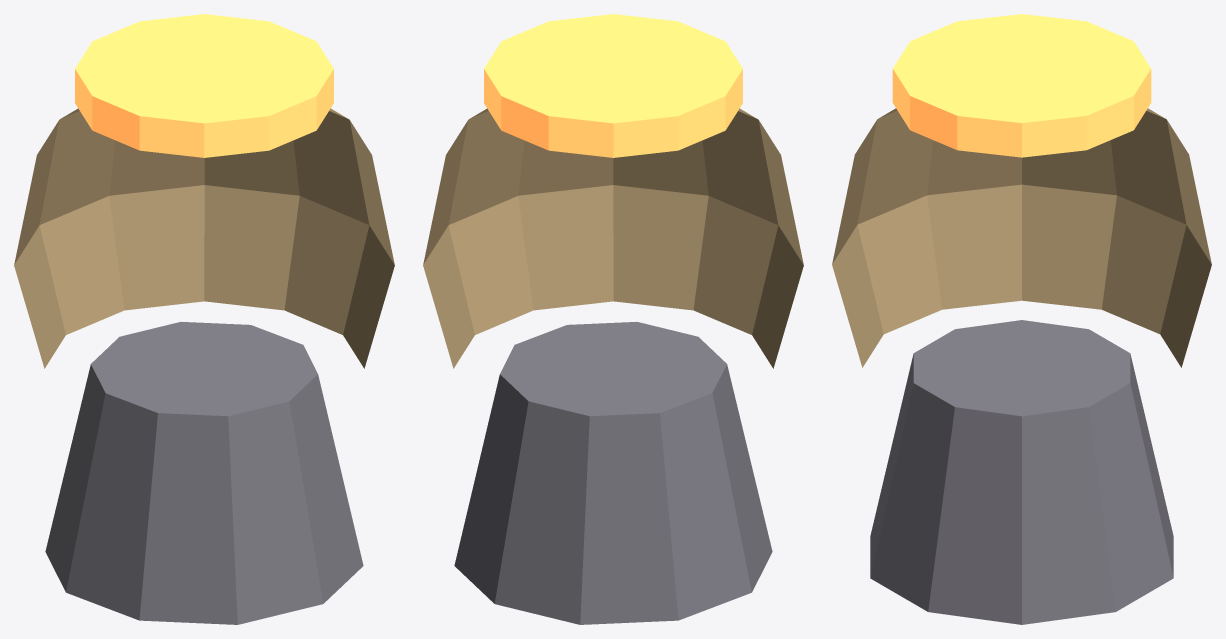
Rendered from mythic-underworld-and-olympus-ember-brazier-c636d069__21370.glb.
The picture shows the model from 3 angles, left to right: view 1: azimuth 30°, elevation 25°; view 2: azimuth 150°, elevation 25°; view 3: azimuth 270°, elevation 25°; orthographic projection.
Parts seen in each view (by area): view 1: ember-brazier; view 2: ember-brazier; view 3: ember-brazier.
Part boxes in pixels (left/top/right/bottom): ember-brazier: left=14, top=14, right=394, bottom=624; ember-brazier: left=423, top=14, right=803, bottom=624; ember-brazier: left=832, top=14, right=1211, bottom=624.
Size of the model in its own units: 1 by 1.42 by 1.
